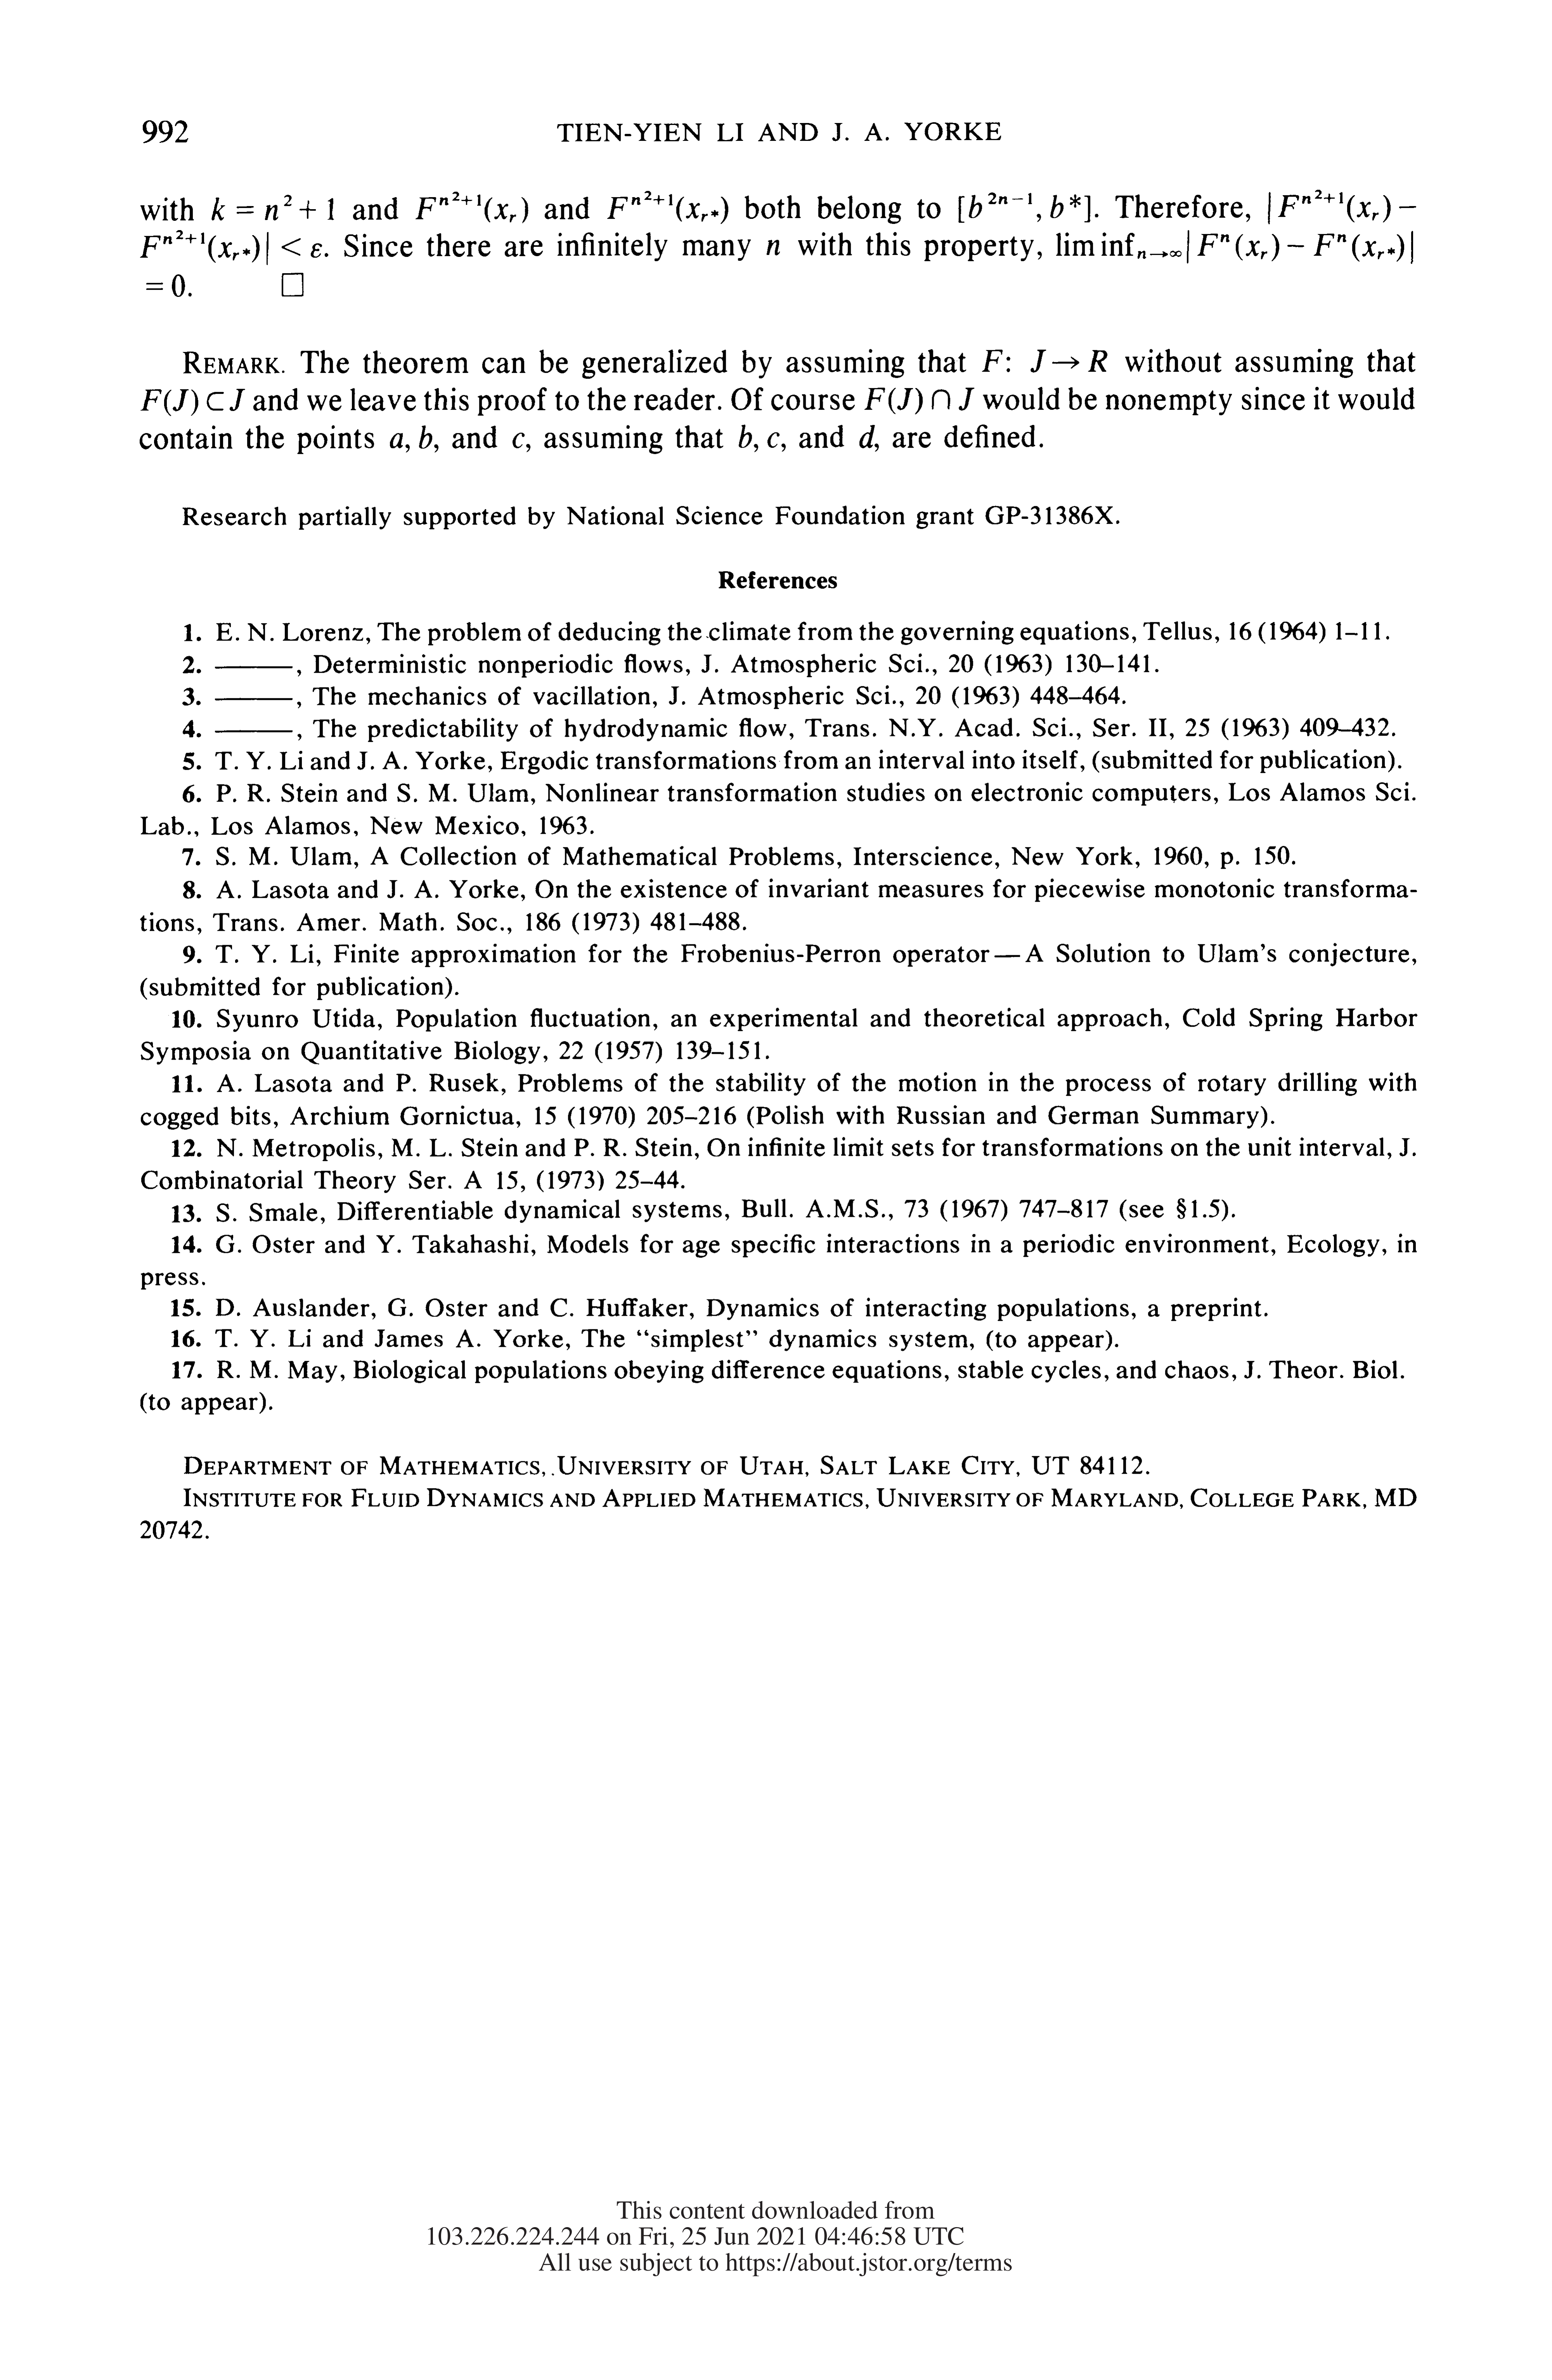maths: (1056, 231, 1413, 264), (140, 231, 321, 265), (1268, 189, 1415, 224), (607, 191, 728, 224), (959, 193, 1091, 222), (416, 191, 527, 222), (212, 194, 333, 220), (865, 387, 975, 415), (140, 389, 245, 416), (1030, 350, 1106, 373), (146, 274, 191, 297), (281, 272, 303, 297), (739, 425, 758, 451), (981, 350, 1002, 371), (390, 434, 409, 453), (860, 425, 874, 448), (420, 425, 432, 448), (766, 239, 780, 255), (512, 432, 524, 448), (766, 432, 779, 448)
